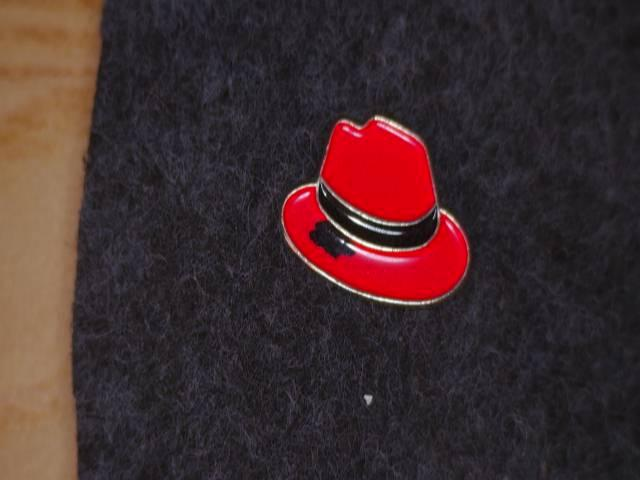Red-Hat: (250, 105, 475, 332)
Scratch: (302, 207, 358, 267)
